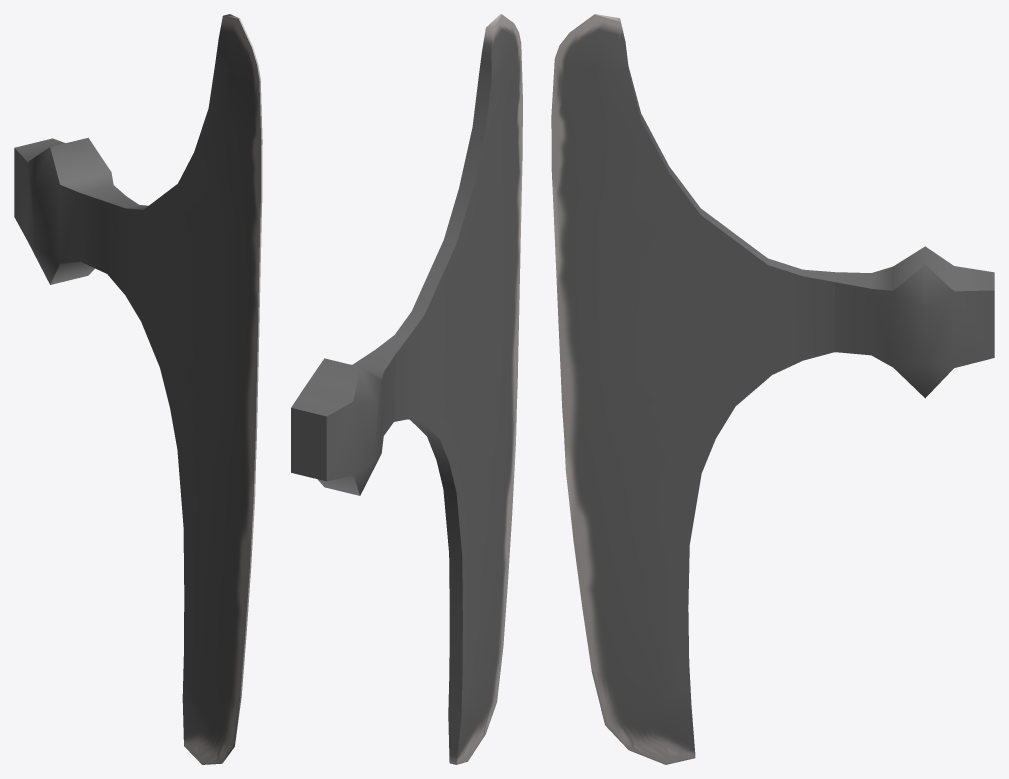
The model's file is wheeler_ii_axehead.fbx.
3 renders of one model, left to right at view 1: azimuth 30°, elevation 25°; view 2: azimuth 150°, elevation 25°; view 3: azimuth 270°, elevation 25°, orthographic. The views are drawn at different scales.
Visible parts, largest first — view 1: axe; view 2: axe; view 3: axe.
Boxes of the visible parts, left/top/right/bottom form: axe: left=14, top=14, right=262, bottom=764; axe: left=291, top=14, right=522, bottom=764; axe: left=551, top=14, right=994, bottom=764.
Bounding box in the file's own units: 53.54 × 536 × 287.
